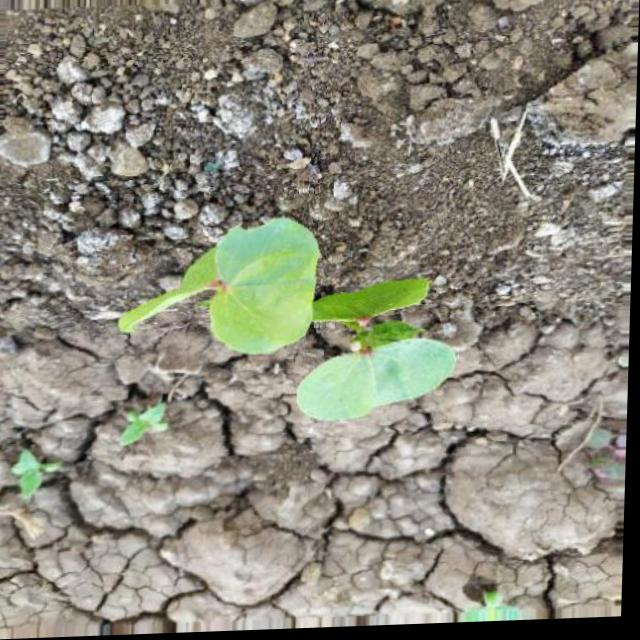weed: (123, 214, 460, 453)
